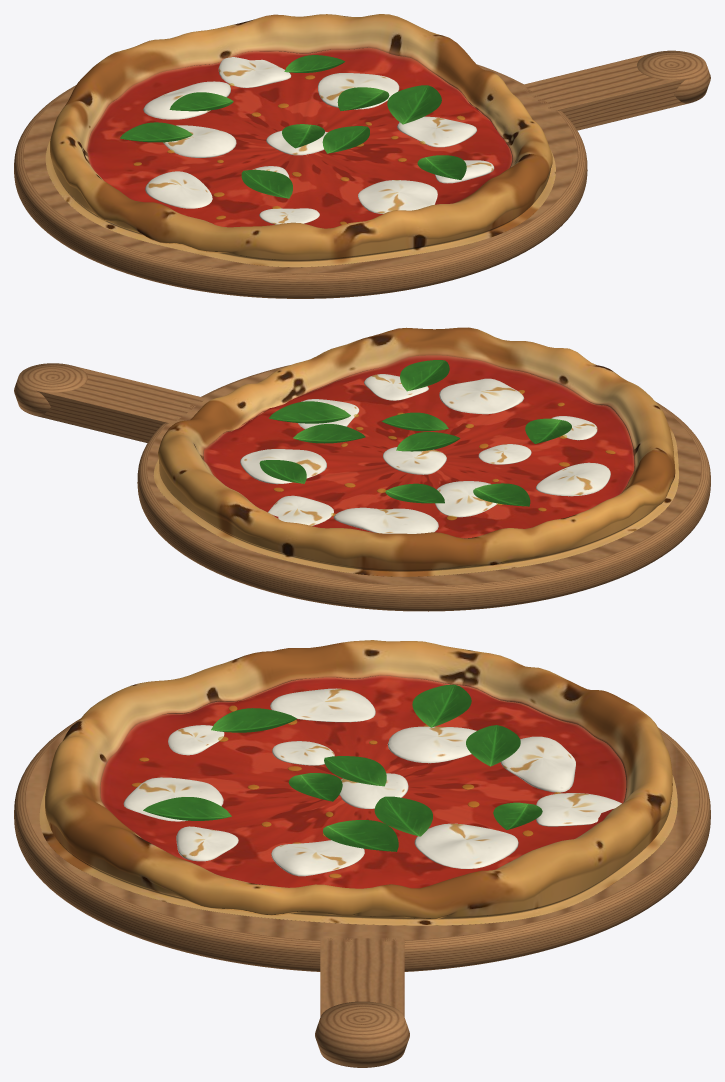
File: pizza.glb
3 renders of one model, top to bottom at view 1: azimuth 30°, elevation 25°; view 2: azimuth 150°, elevation 25°; view 3: azimuth 270°, elevation 25°, orthographic. The views are drawn at different scales.
Visible parts, largest first — view 1: pizza-margherita; view 2: pizza-margherita; view 3: pizza-margherita.
Boxes of the visible parts, <box> form: pizza-margherita: <box>14,14,710,298</box>; pizza-margherita: <box>14,327,710,611</box>; pizza-margherita: <box>14,640,710,1067</box>.
Size of the model in its own units: 0.4873 by 0.0488 by 0.3705.
Materials: 5 (4 with a texture image).
